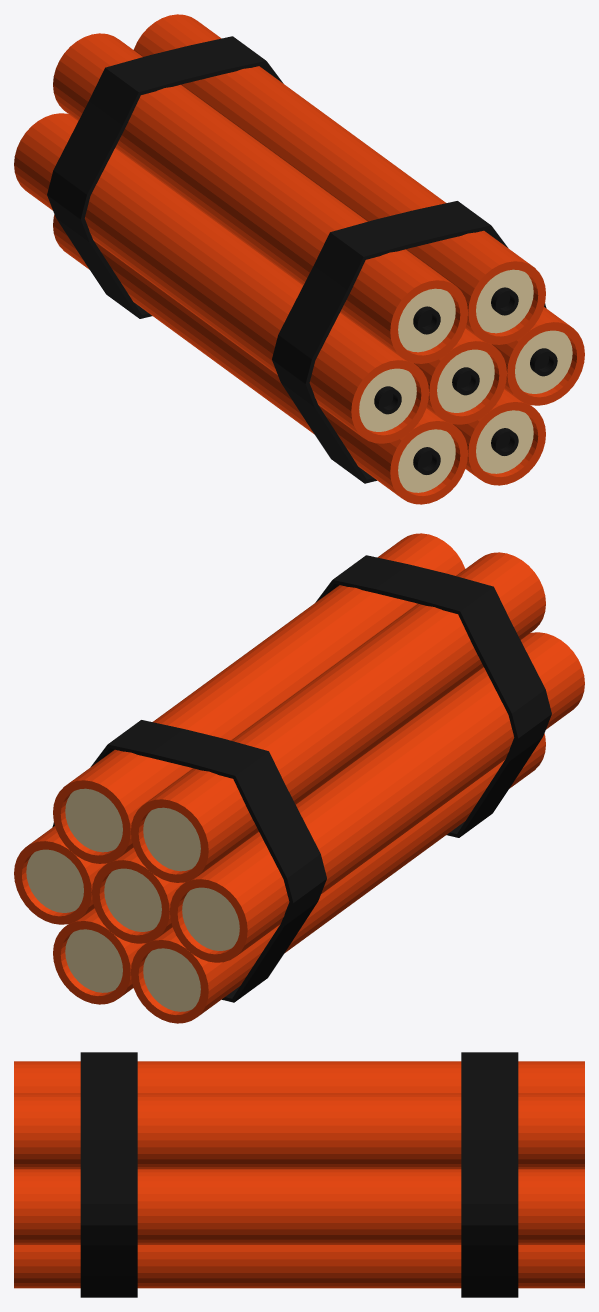
The model's file is Dynamite.fbx.
The picture shows the model from 3 angles, top to bottom: view 1: azimuth 30°, elevation 25°; view 2: azimuth 150°, elevation 25°; view 3: azimuth 270°, elevation 25°; orthographic projection. The views are drawn at different scales.
Parts seen in each view (by area): view 1: Dynamite.001, Dynamite.003, Dynamite.005, Dynamite.006, Plane, Plane.001, Dynamite.004, Dynamite.007, Dynamite.002; view 2: Dynamite.001, Dynamite.003, Dynamite.005, Dynamite.006, Plane.001, Plane, Dynamite.004, Dynamite.007, Dynamite.002; view 3: Dynamite.005, Dynamite.004, Dynamite.007, Dynamite.001, Plane, Plane.001.
Boxes of the visible parts, x1,y1,x2,y2 form: Dynamite.001: (53,33,467,363); Dynamite.003: (14,113,429,443); Dynamite.005: (133,14,545,344); Dynamite.006: (53,214,467,504); Plane: (272,201,546,483); Plane.001: (47,36,283,318); Dynamite.004: (492,307,584,405); Dynamite.007: (453,389,545,485); Dynamite.002: (414,328,506,424); Dynamite.001: (131,552,545,882); Dynamite.003: (169,632,584,962); Dynamite.005: (53,533,465,863); Dynamite.006: (131,733,545,1023); Plane.001: (52,720,326,1002); Plane: (315,555,551,837); Dynamite.004: (14,826,106,924); Dynamite.007: (53,908,145,1004); Dynamite.002: (92,847,184,943); Dynamite.005: (14,1093,584,1168); Dynamite.004: (14,1169,584,1244); Dynamite.007: (14,1245,584,1288); Dynamite.001: (14,1061,584,1093); Plane: (80,1052,137,1297); Plane.001: (461,1052,518,1297).
Bounding box in the file's own units: 630 × 561 × 1500.
